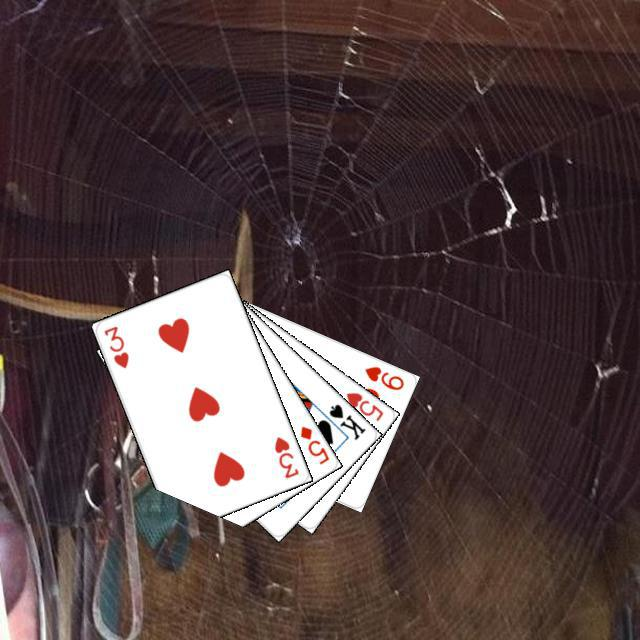3h: (99, 321, 131, 370), (269, 431, 300, 480)
5d: (295, 421, 331, 466)
5h: (341, 387, 385, 423)
9h: (359, 361, 406, 392)
Ks: (324, 399, 367, 442)
